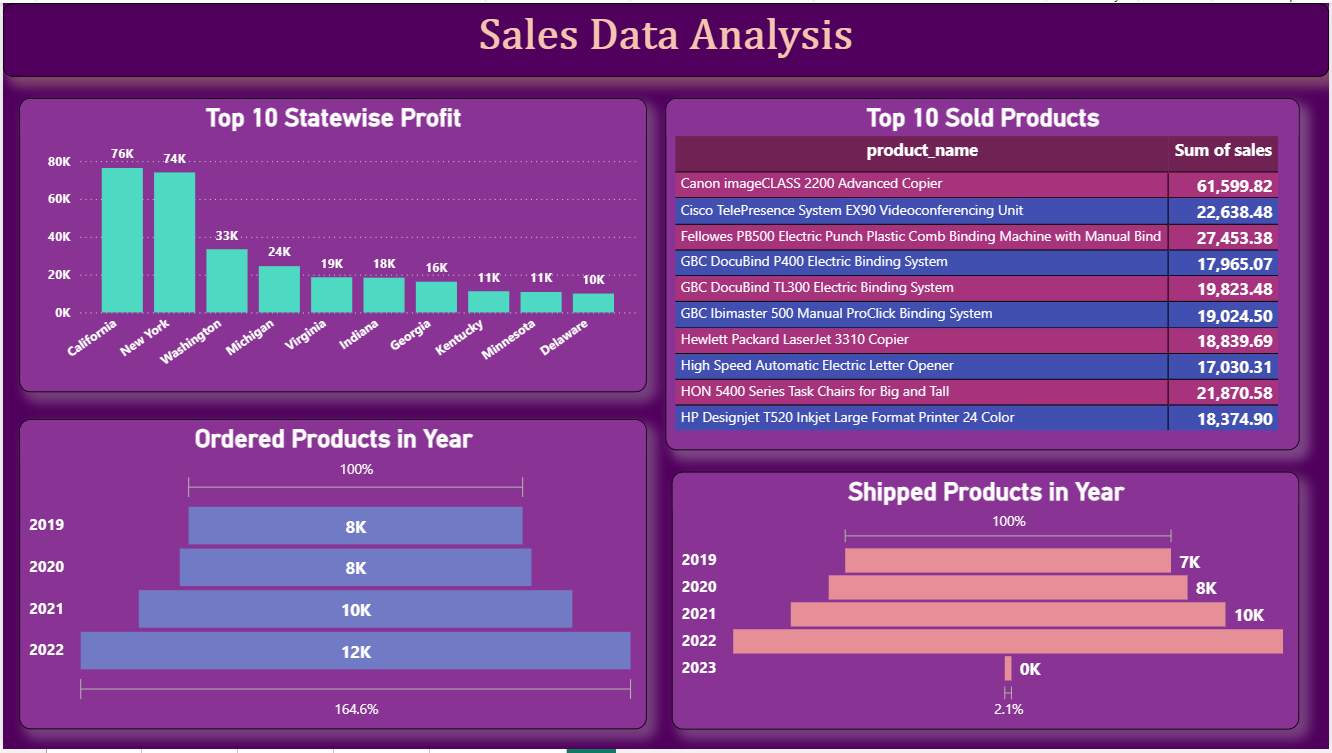

What the dashboard file says about the page in this screenshot:
{"tool":"powerbi","page":{"name":"Page 3","canvas":[1280,720],"ordinal":2},"visuals":[{"type":"textbox","box":[0,0,1280,71.2],"z":0},{"type":"clusteredColumnChart","title":"Top 10 Statewise  Profit","fields":{"Y":["Sum(sales_analysis sales_data.profit)"],"Category":["sales_analysis sales_data.state"]},"box":[15.2,92.3,605.4,284.4],"z":1000},{"type":"pivotTable","title":"Top 10 Sold Products","fields":{"Rows":["sales_analysis sales_data.product_name"],"Values":["Sum(sales_analysis sales_data.sales)"]},"box":[639.5,92.3,611.7,340],"z":2000},{"type":"funnel","title":"Ordered Products in  Year","fields":{"Category":["sales_analysis sales_data.order_date.Variation.Date Hierarchy.Year"],"Y":["Sum(sales_analysis sales_data.quantity)"]},"box":[15.2,401.9,605.4,299.5],"z":3000},{"type":"funnel","title":"Shipped Products in  Year","fields":{"Category":["sales_analysis sales_data.ship_date.Variation.Date Hierarchy.Year"],"Y":["Sum(sales_analysis sales_data.quantity)"]},"box":[645.8,452.5,605.4,249],"z":4000}]}

Visuals, with their boxes in screenshot pixels (x1, y1, x2, y2), scaled from the page's 1280x720 canvas onto the 1332x753 screenshot:
textbox: BBox(0, 0, 1331, 74)
"Top 10 Statewise  Profit" clusteredColumnChart: BBox(16, 97, 646, 394)
"Top 10 Sold Products" pivotTable: BBox(665, 97, 1302, 452)
"Ordered Products in  Year" funnel: BBox(16, 420, 646, 734)
"Shipped Products in  Year" funnel: BBox(672, 473, 1302, 734)
